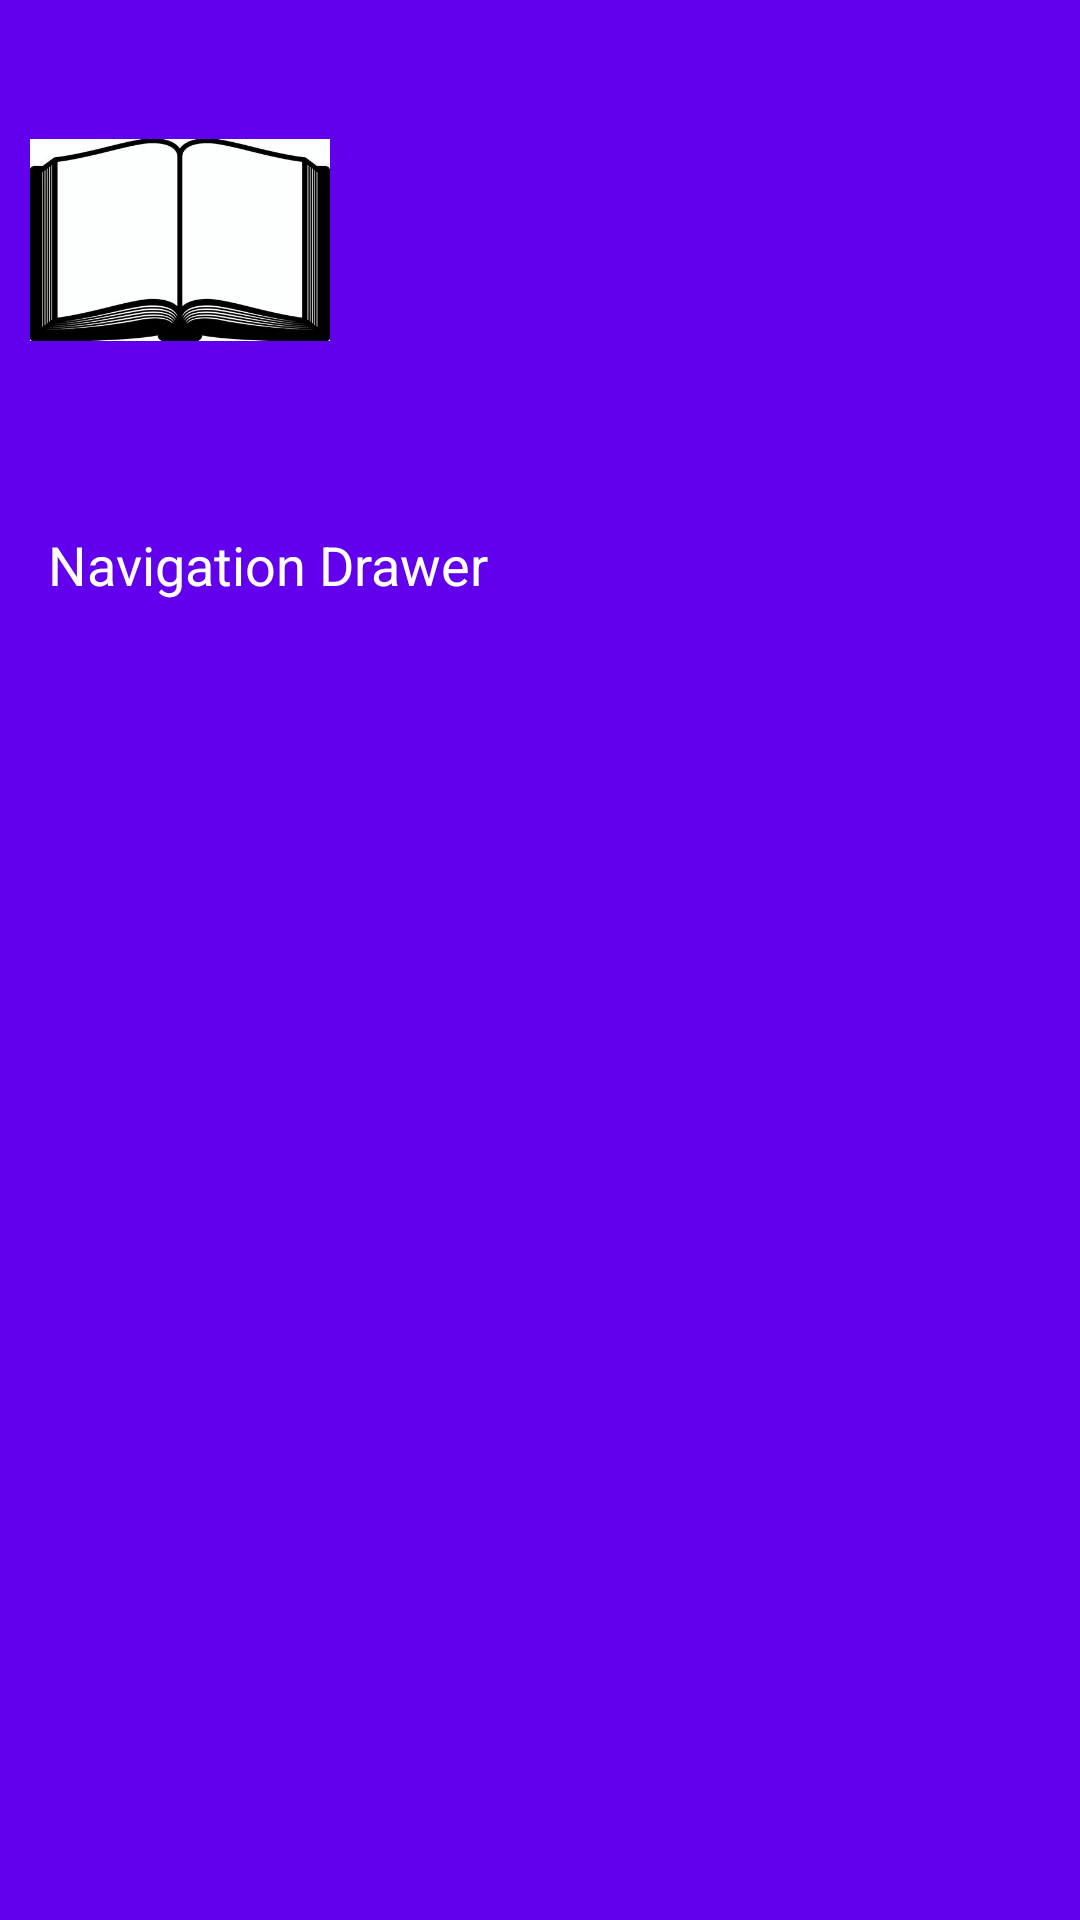

Icon bounding boxes for this 1080px x 1920px phone screenshot, format Rect(x1, y1, x2, y2):
openbook: Rect(30, 139, 330, 341)
